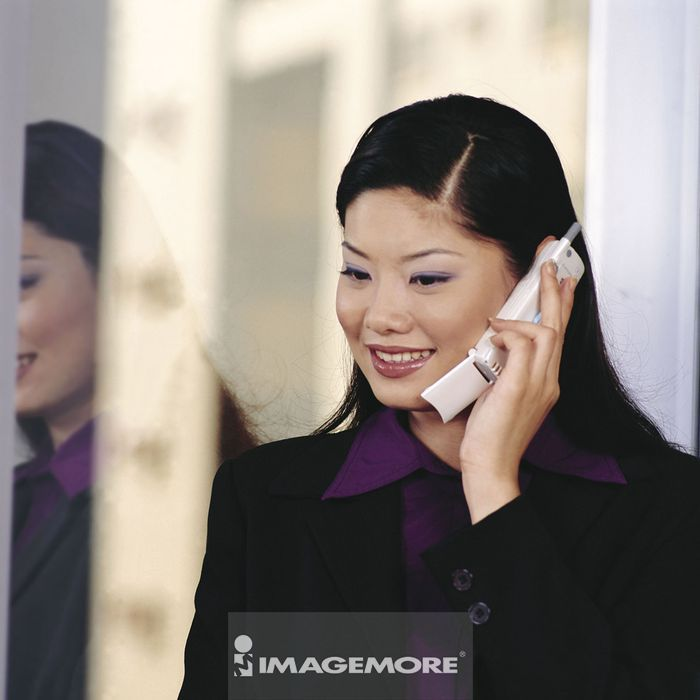talk: (333, 230, 577, 504)
